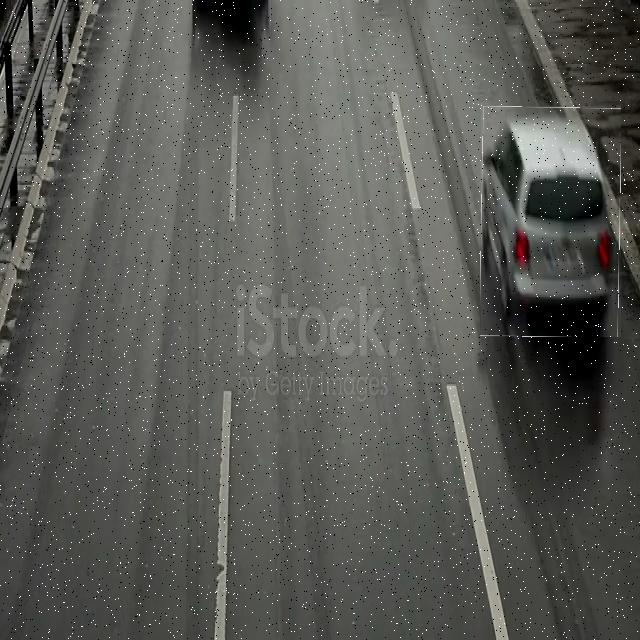Car: (481, 106, 621, 337)
